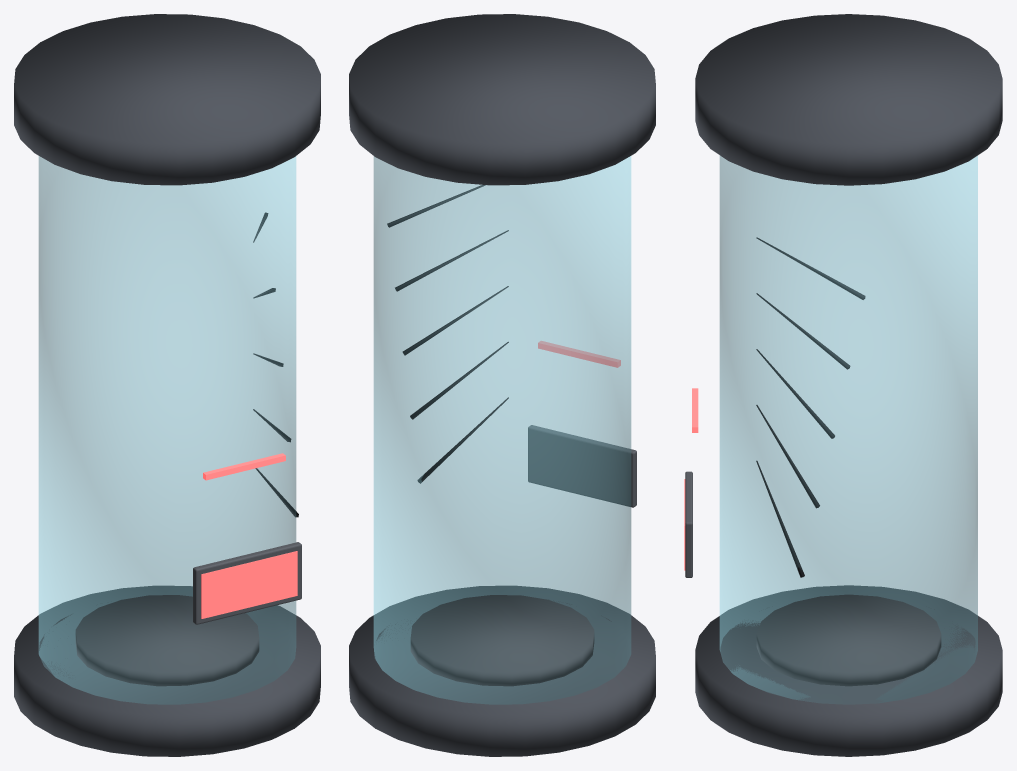
File: cryo_pod_cracked.glb
The picture shows the model from 3 angles, left to right: view 1: azimuth 30°, elevation 25°; view 2: azimuth 150°, elevation 25°; view 3: azimuth 270°, elevation 25°; orthographic projection.
Visible parts, largest first — view 1: GD_cryo_pod_cracked__m3, GD_cryo_pod_cracked__m0, GD_cryo_pod_cracked__m1, GD_cryo_pod_cracked__m2, GD_cryo_pod_cracked__m5, GD_cryo_pod_cracked__m4; view 2: GD_cryo_pod_cracked__m3, GD_cryo_pod_cracked__m0, GD_cryo_pod_cracked__m1, GD_cryo_pod_cracked__m4, GD_cryo_pod_cracked__m5; view 3: GD_cryo_pod_cracked__m3, GD_cryo_pod_cracked__m0, GD_cryo_pod_cracked__m1, GD_cryo_pod_cracked__m4.
Part boxes in pixels (x1=…): GD_cryo_pod_cracked__m3: x1=38, y1=156, x2=296, y2=704; GD_cryo_pod_cracked__m0: x1=14, y1=14, x2=320, y2=756; GD_cryo_pod_cracked__m1: x1=75, y1=542, x2=301, y2=686; GD_cryo_pod_cracked__m2: x1=201, y1=551, x2=297, y2=618; GD_cryo_pod_cracked__m5: x1=203, y1=453, x2=285, y2=480; GD_cryo_pod_cracked__m4: x1=253, y1=212, x2=298, y2=517; GD_cryo_pod_cracked__m3: x1=373, y1=156, x2=631, y2=704; GD_cryo_pod_cracked__m0: x1=349, y1=14, x2=655, y2=756; GD_cryo_pod_cracked__m1: x1=410, y1=425, x2=636, y2=686; GD_cryo_pod_cracked__m4: x1=387, y1=184, x2=508, y2=483; GD_cryo_pod_cracked__m5: x1=538, y1=341, x2=620, y2=367; GD_cryo_pod_cracked__m3: x1=719, y1=155, x2=977, y2=704; GD_cryo_pod_cracked__m0: x1=695, y1=14, x2=1002, y2=756; GD_cryo_pod_cracked__m1: x1=685, y1=471, x2=941, y2=686; GD_cryo_pod_cracked__m4: x1=756, y1=237, x2=865, y2=577.
Bounding box in the file's own units: 1 × 2.2 × 1.04.
